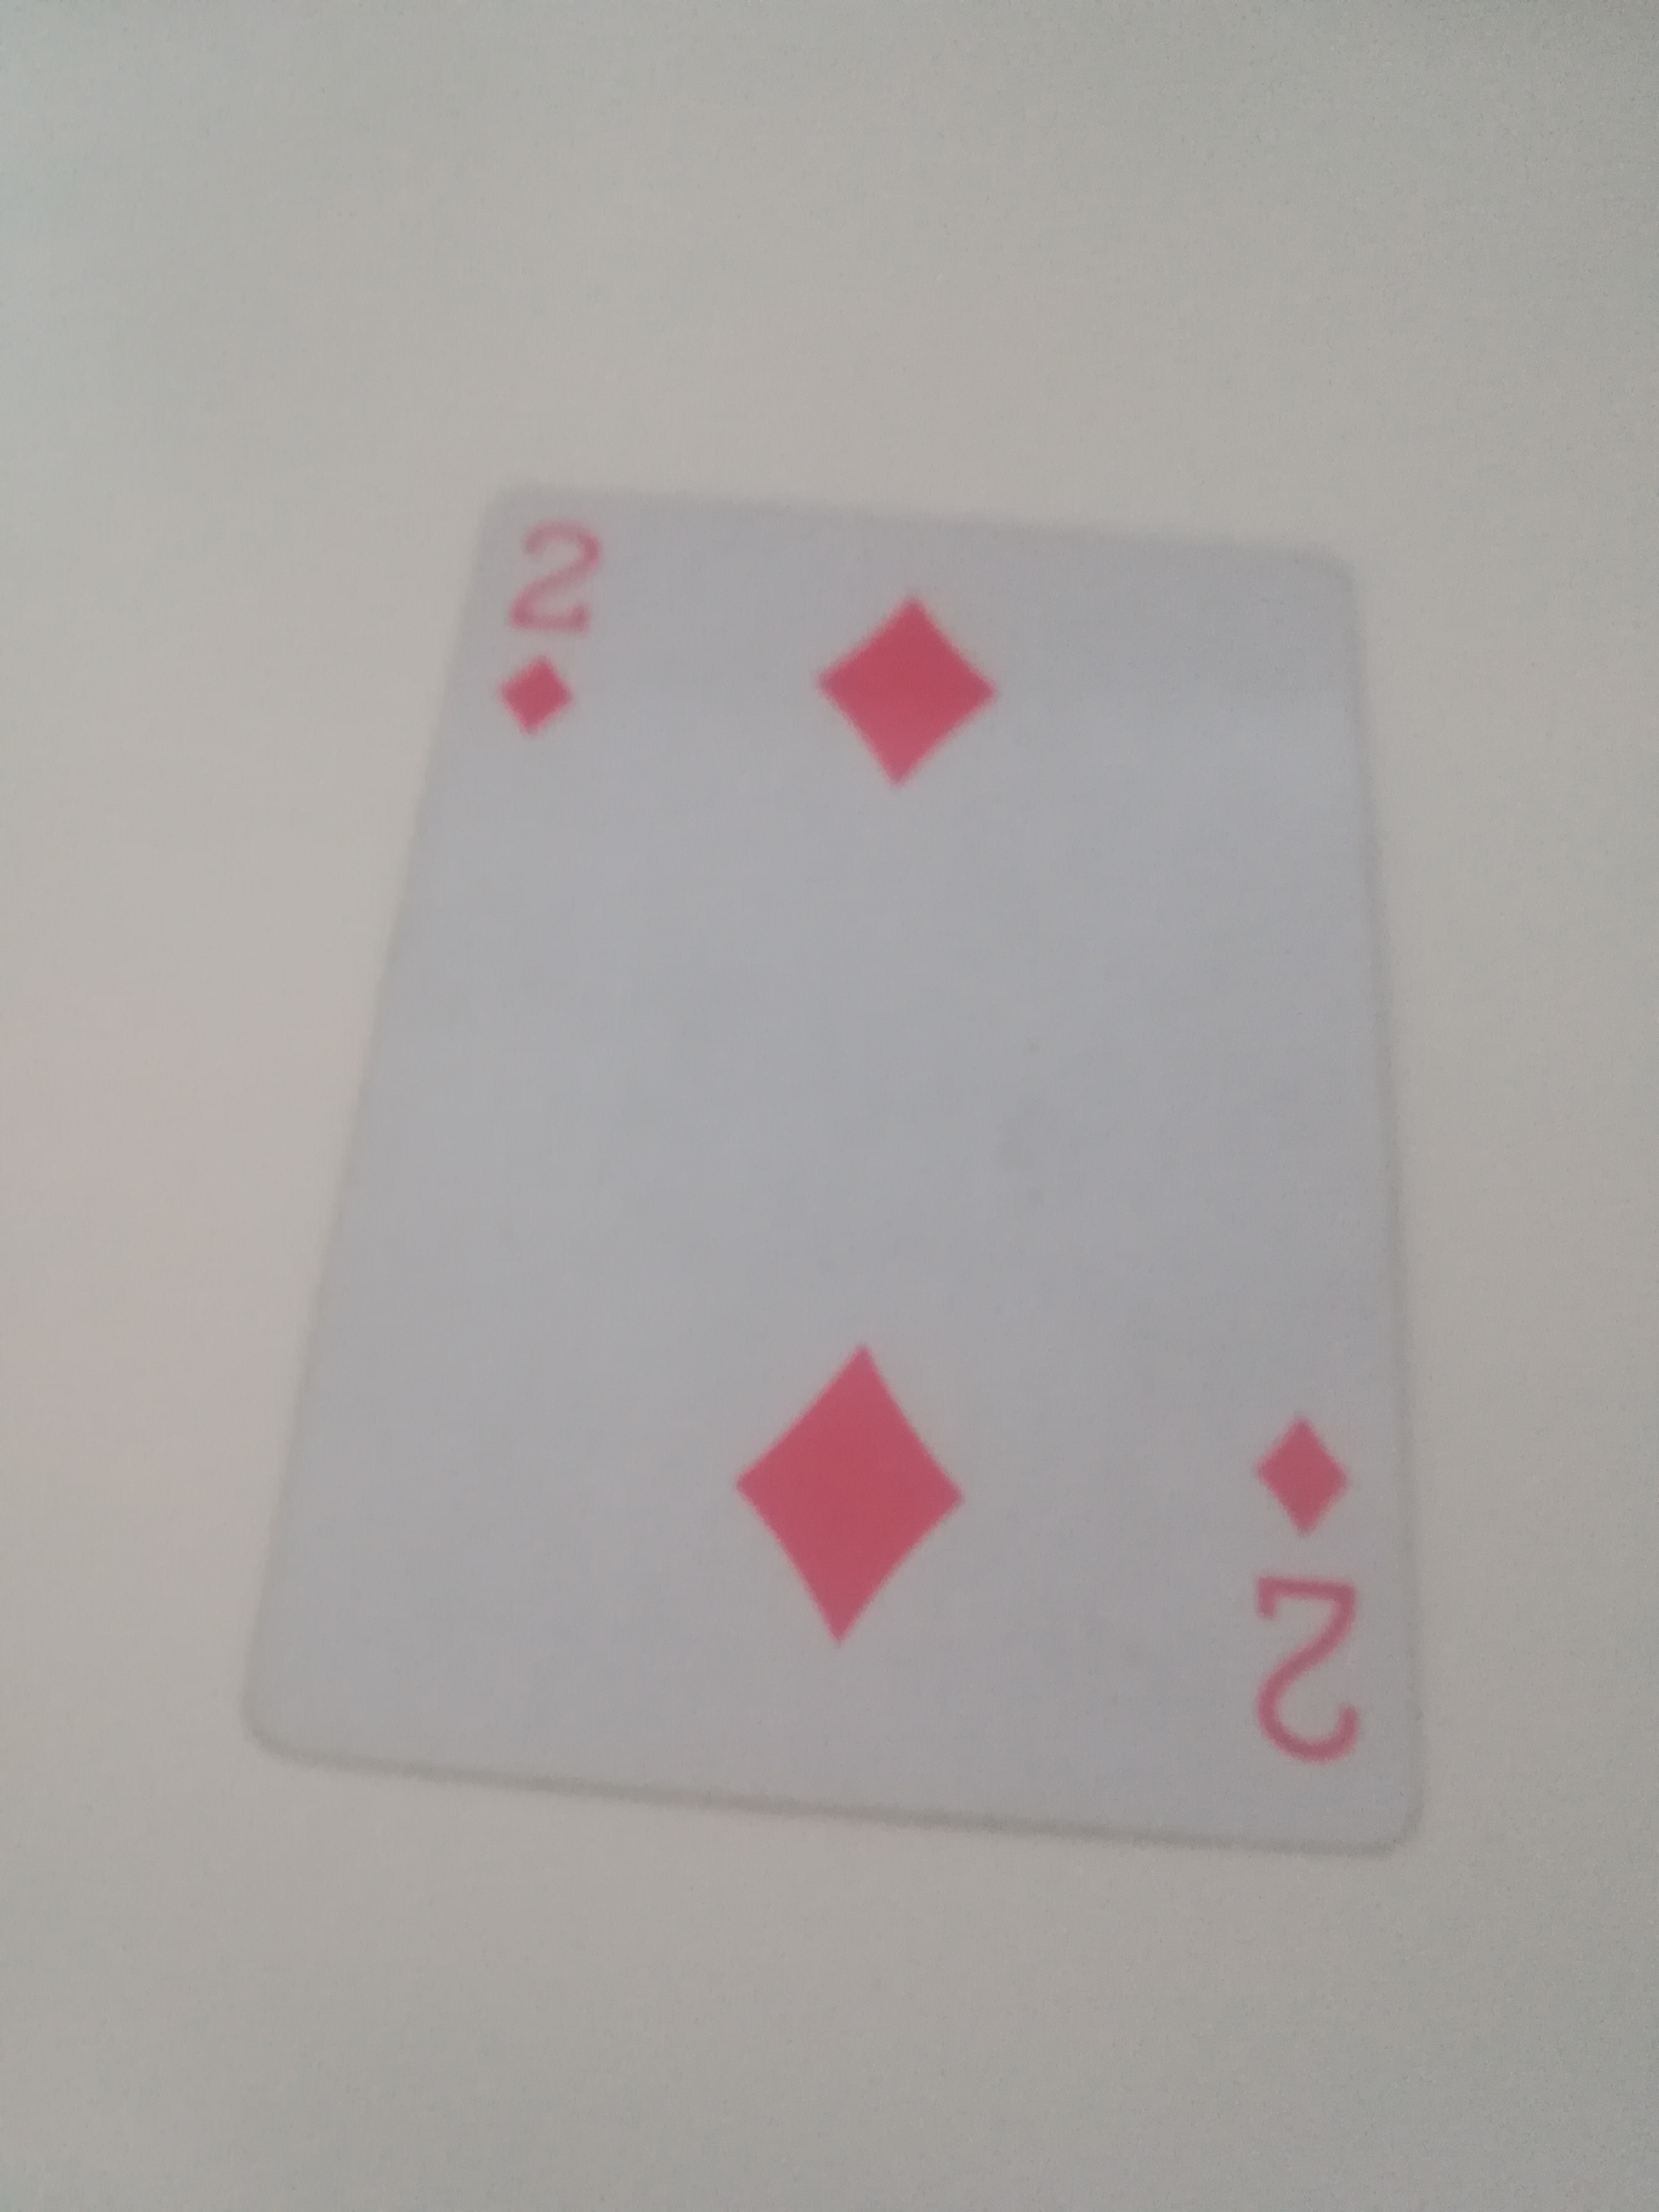2D: (244, 474, 1438, 1871)
